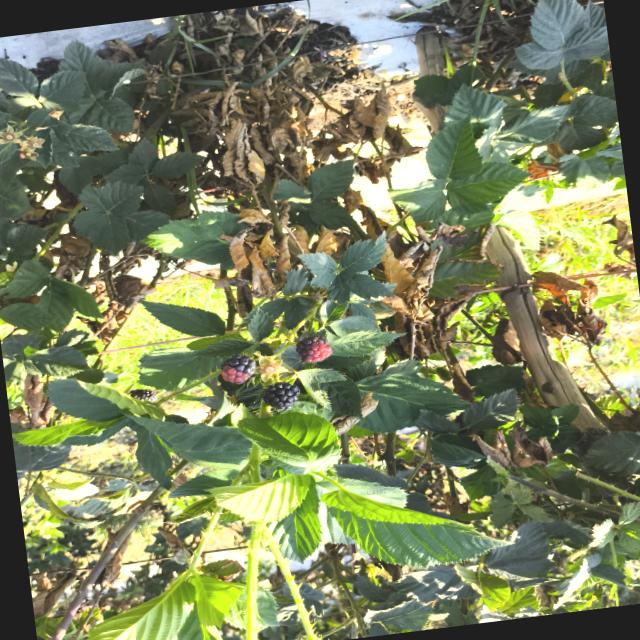maduro: (263, 382, 299, 410)
marron: (295, 335, 332, 362), (221, 354, 255, 383)
